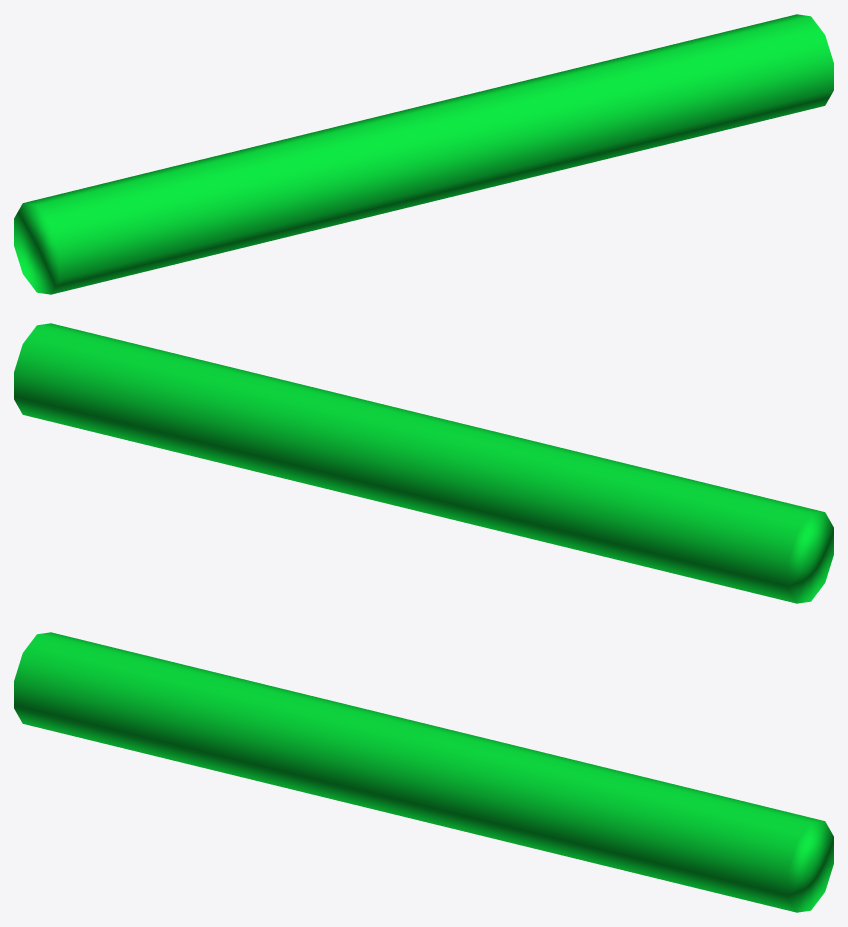
File: Pipe_Metal_A.fbx
3 renders of one model, top to bottom at view 1: azimuth 30°, elevation 25°; view 2: azimuth 150°, elevation 25°; view 3: azimuth 330°, elevation 25°, orthographic.
Parts seen in each view (by area): view 1: Pipe_Metal_A; view 2: Pipe_Metal_A; view 3: Pipe_Metal_A.
Boxes of the visible parts, x1,y1,x2,y2 form: Pipe_Metal_A: [14, 14, 833, 294]; Pipe_Metal_A: [14, 323, 833, 603]; Pipe_Metal_A: [14, 632, 833, 912].
Bounding box in the file's own units: 2.08 × 0.2243 × 0.2133.
